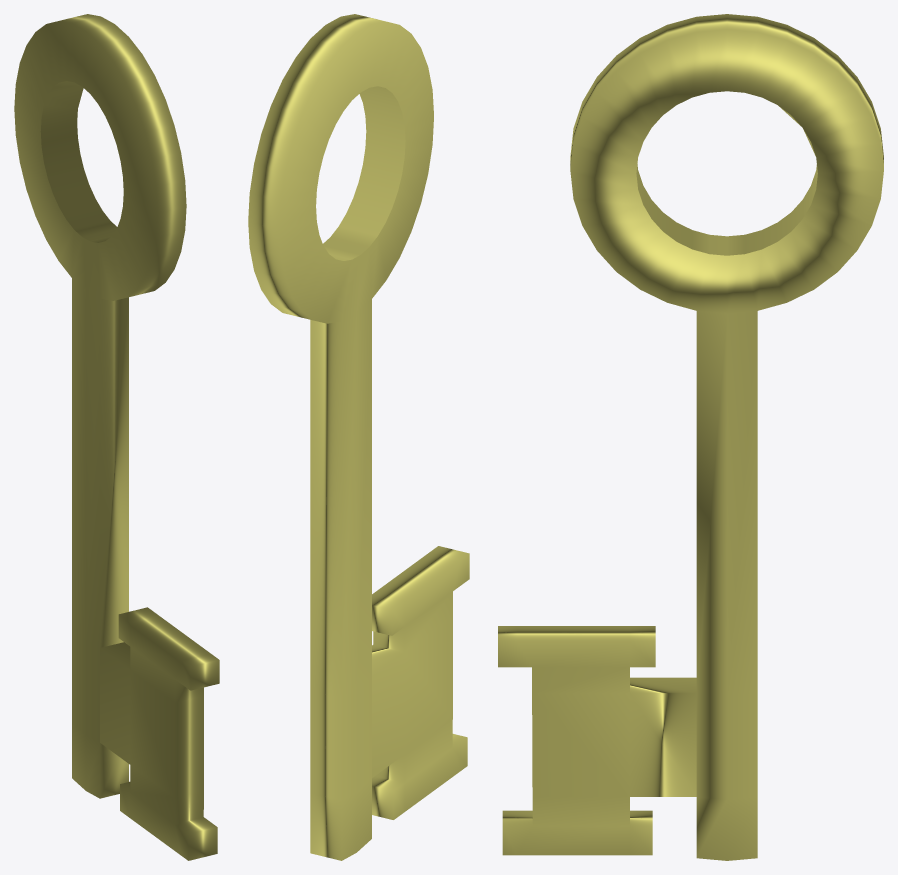
Rendered from key.fbx.
3 views of the same model, side by side, from view 1: azimuth 30°, elevation 25°; view 2: azimuth 150°, elevation 25°; view 3: azimuth 270°, elevation 25° (orthographic). The views are drawn at different scales.
Visible parts, largest first — view 1: Cylinder; view 2: Cylinder; view 3: Cylinder.
Part boxes in pixels (left/top/right/bottom): Cylinder: left=14, top=14, right=219, bottom=860; Cylinder: left=248, top=14, right=469, bottom=860; Cylinder: left=498, top=14, right=883, bottom=860.
Bounding box in the file's own units: 2.46 × 49.12 × 20.66.
